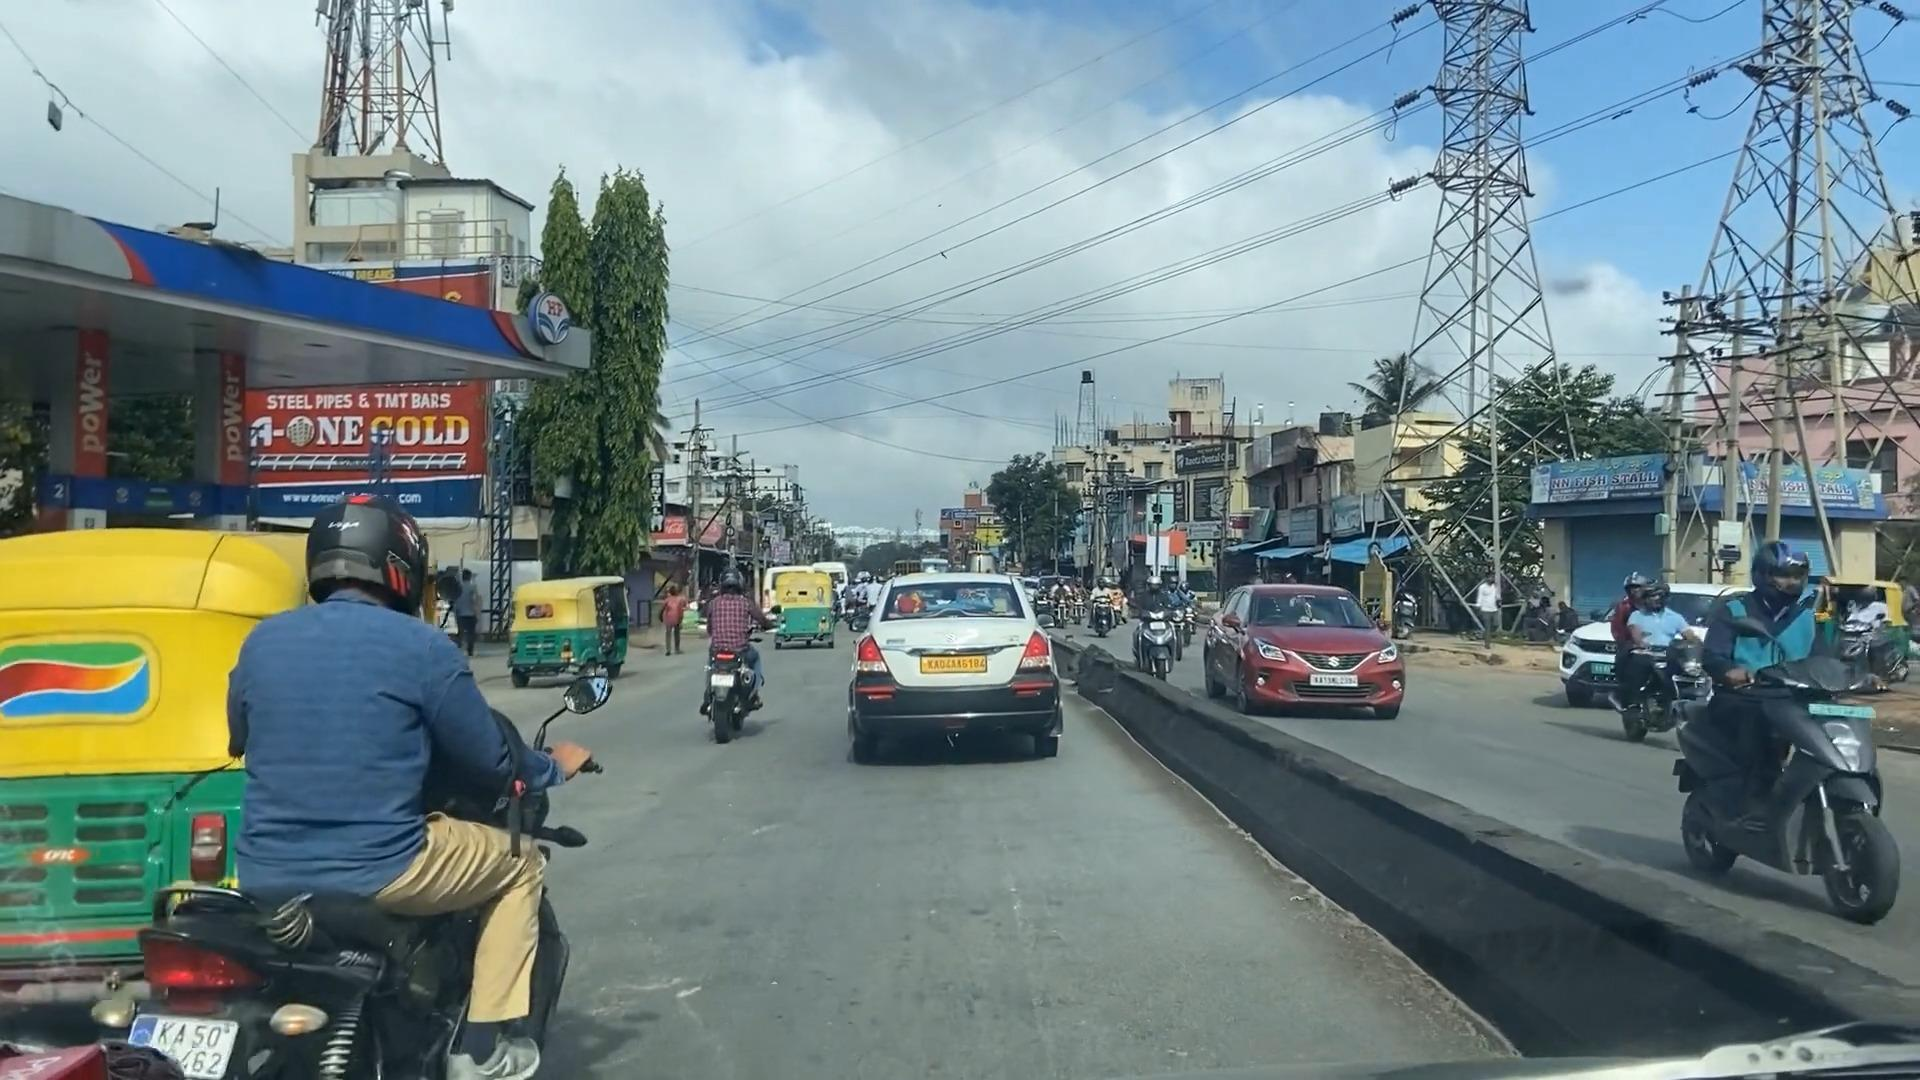LMV: (145, 491, 563, 1080), (848, 558, 1063, 774), (688, 547, 770, 735)
